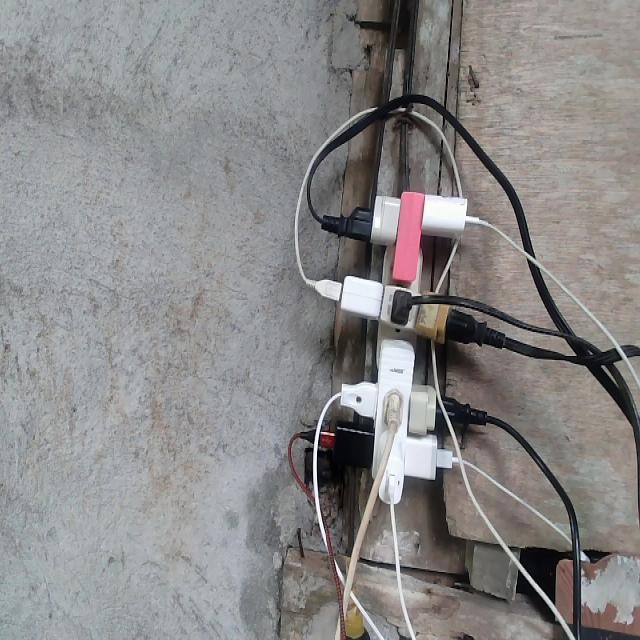-: (269, 77, 512, 564)
